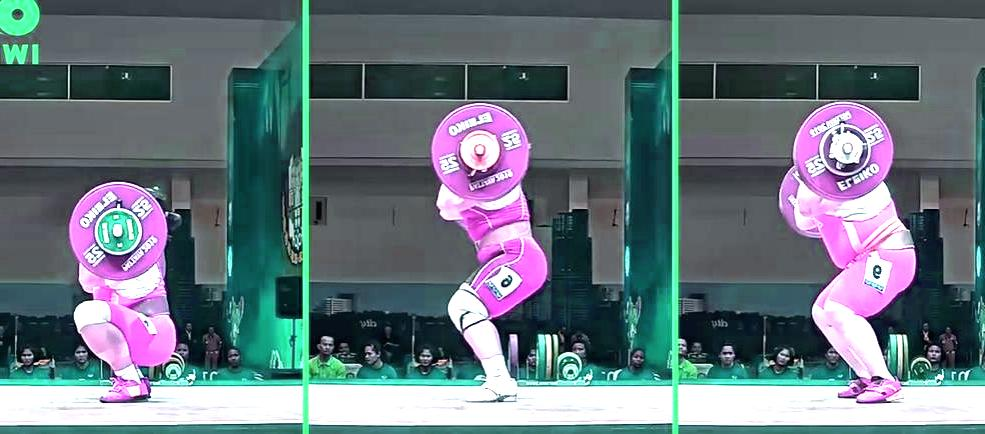Barbell: (836, 139, 859, 158), (469, 139, 492, 158), (107, 222, 124, 241)
